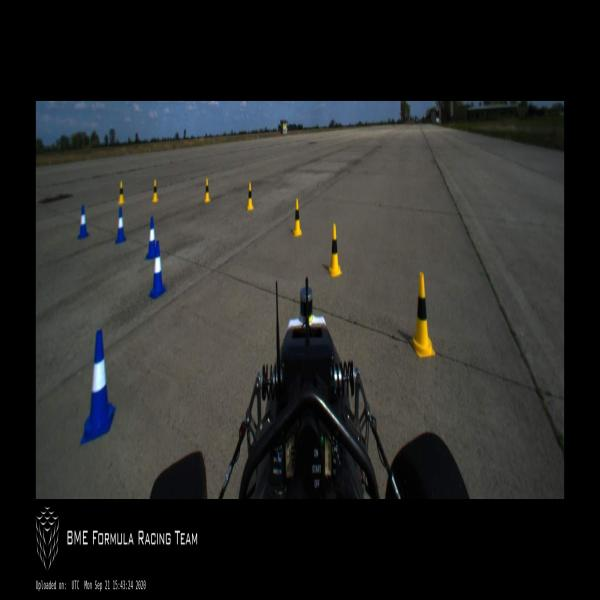blue_cone: (80, 330, 116, 446), (148, 241, 167, 298), (144, 216, 157, 259), (77, 205, 89, 239), (115, 208, 126, 244)
yellow_cone: (410, 272, 436, 358), (327, 222, 342, 278), (293, 198, 302, 238), (246, 182, 254, 210), (204, 178, 210, 204), (152, 178, 158, 202), (118, 182, 124, 204)
